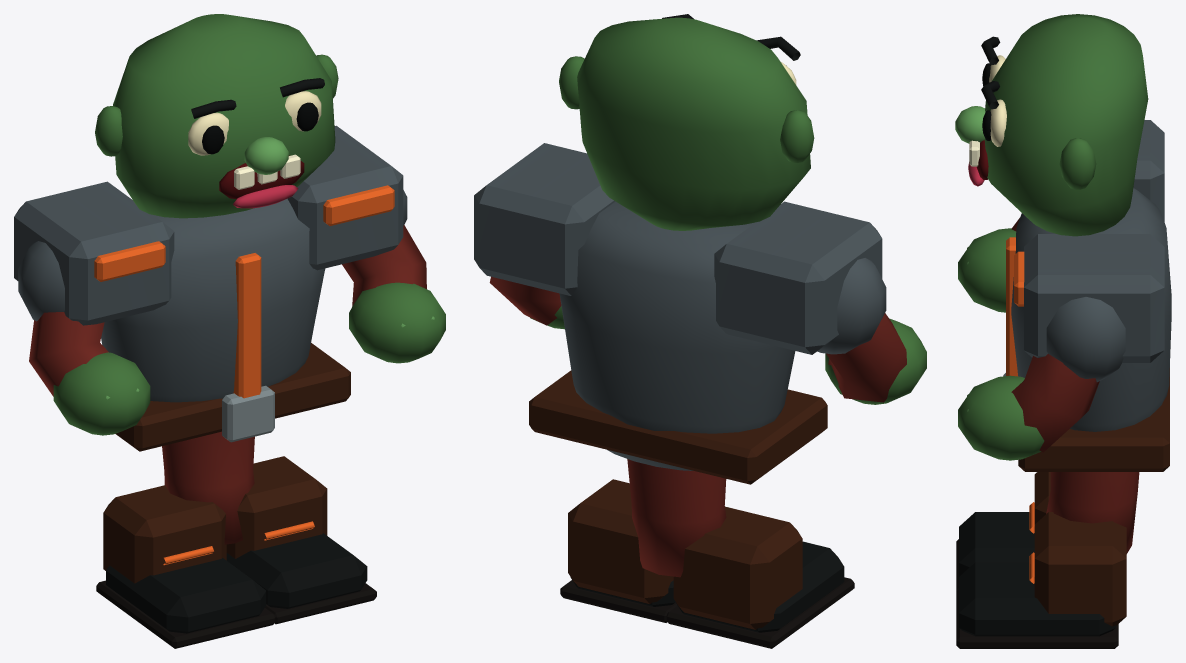
Rendered from elite.glb.
The picture shows the model from 3 angles, left to right: view 1: azimuth 30°, elevation 25°; view 2: azimuth 150°, elevation 25°; view 3: azimuth 270°, elevation 25°; orthographic projection. The views are drawn at different scales.
Visible parts, largest first — view 1: Arms, Body, Head, LegL, LegR; view 2: Body, Arms, Head, LegL, LegR; view 3: Arms, Head, LegR, Body, LegL.
Boxes of the visible parts, x1=… form: Arms: x1=14, y1=125, x2=445, y2=435; Body: x1=101, y1=198, x2=350, y2=451; Head: x1=95, y1=14, x2=338, y2=218; LegL: x1=96, y1=431, x2=275, y2=648; LegR: x1=164, y1=456, x2=376, y2=624; Body: x1=529, y1=201, x2=827, y2=484; Arms: x1=474, y1=143, x2=926, y2=404; Head: x1=559, y1=14, x2=814, y2=230; LegL: x1=627, y1=459, x2=854, y2=648; LegR: x1=560, y1=479, x2=721, y2=622; Arms: x1=958, y1=120, x2=1164, y2=460; Head: x1=955, y1=14, x2=1148, y2=236; LegR: x1=956, y1=472, x2=1137, y2=648; Body: x1=1003, y1=188, x2=1171, y2=471; LegL: x1=956, y1=472, x2=1139, y2=591.
Size of the model in its own units: 0.848 by 1.16 by 0.4005.
1 material, 1 textured.
